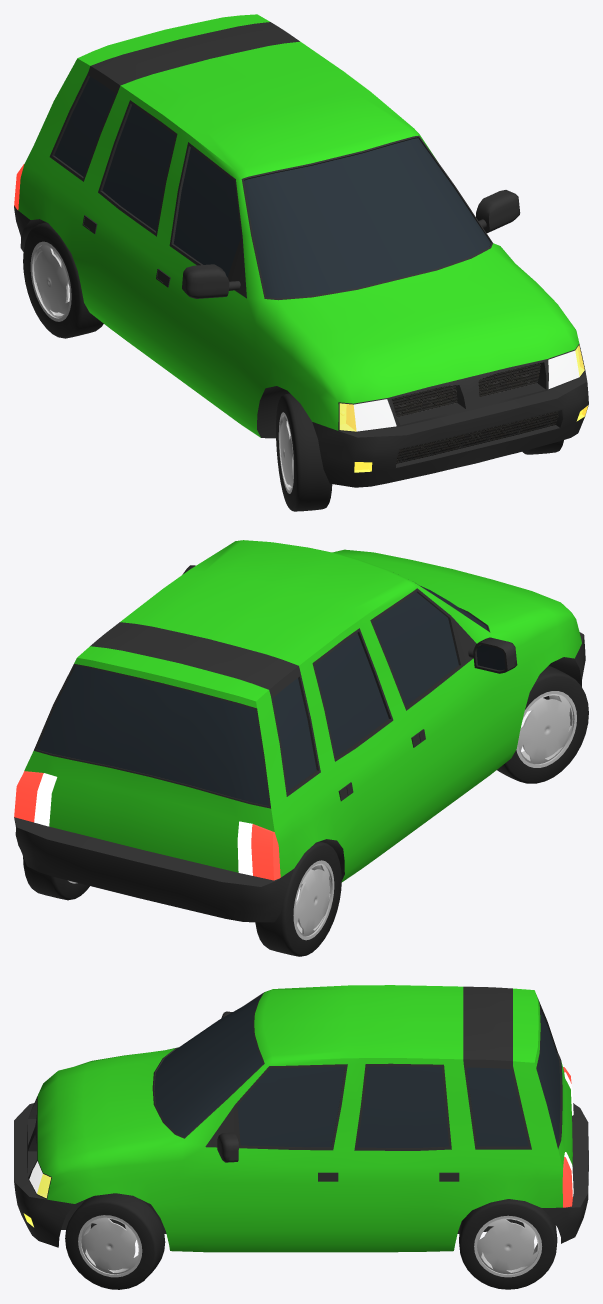
File: car-7.glb
3 renders of one model, top to bottom at view 1: azimuth 30°, elevation 25°; view 2: azimuth 150°, elevation 25°; view 3: azimuth 270°, elevation 25°, orthographic. The views are drawn at different scales.
Parts seen in each view (by area): view 1: CarBody.007, Wheel.014, Wheel.015; view 2: CarBody.007, Wheel.015, Wheel.014, Wheel.013; view 3: CarBody.007, Wheel.012, Wheel.013.
Boxes of the visible parts, <box> form: CarBody.007: <box>14,14,588,487</box>; Wheel.014: <box>23,222,103,338</box>; Wheel.015: <box>276,393,332,511</box>; CarBody.007: <box>14,540,585,922</box>; Wheel.015: <box>497,665,588,783</box>; Wheel.014: <box>255,841,341,956</box>; Wheel.013: <box>23,856,89,900</box>; CarBody.007: <box>14,985,588,1252</box>; Wheel.012: <box>65,1193,165,1289</box>; Wheel.013: <box>459,1199,557,1289</box>.
Size of the model in its own units: 2.05 by 1.56 by 3.7.
Materials: 10 (1 with a texture image).
